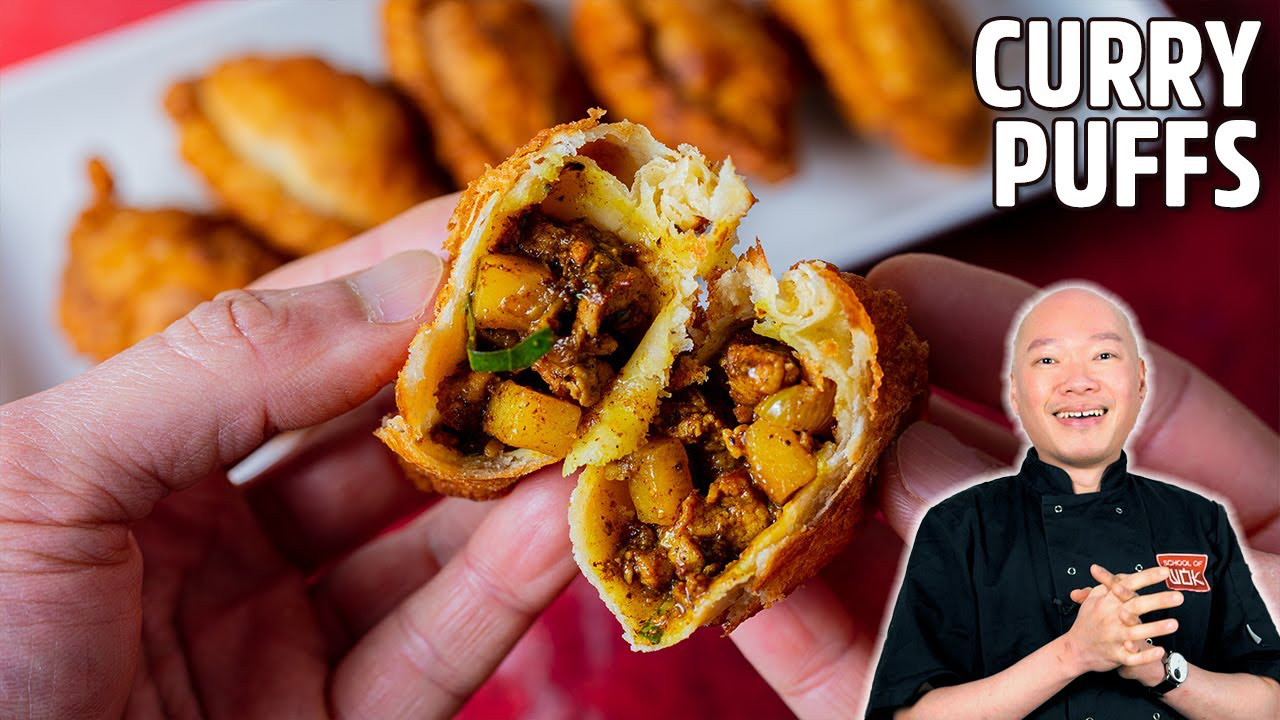Curry Puff: (379, 112, 915, 668)
